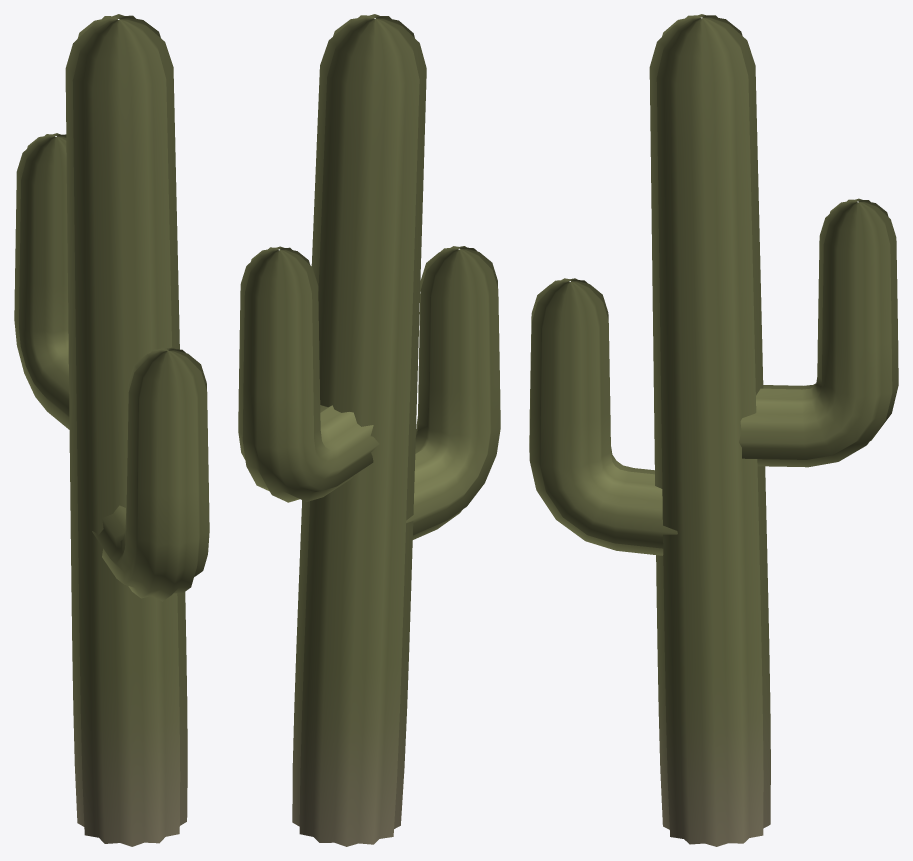
Rendered from cactus.saguaro.dry.glb.
3 views of the same model, side by side, from view 1: azimuth 30°, elevation 25°; view 2: azimuth 150°, elevation 25°; view 3: azimuth 270°, elevation 25° (orthographic). The views are drawn at different scales.
Parts seen in each view (by area): view 1: cactus_saguaro_dry; view 2: cactus_saguaro_dry; view 3: cactus_saguaro_dry.
Part boxes in pixels (<box>): cactus_saguaro_dry: <box>14,14,209,846</box>; cactus_saguaro_dry: <box>238,14,500,846</box>; cactus_saguaro_dry: <box>529,14,898,846</box>.
Size of what is drawn, in the model's own units: 0.5354 by 3.39 by 1.42.
